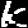k: (0, 0, 28, 28)
